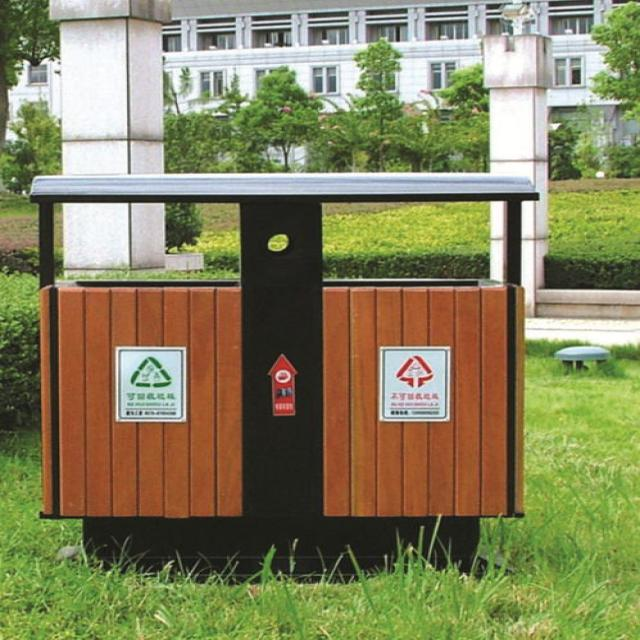garbage_bin: (28, 172, 539, 584)
